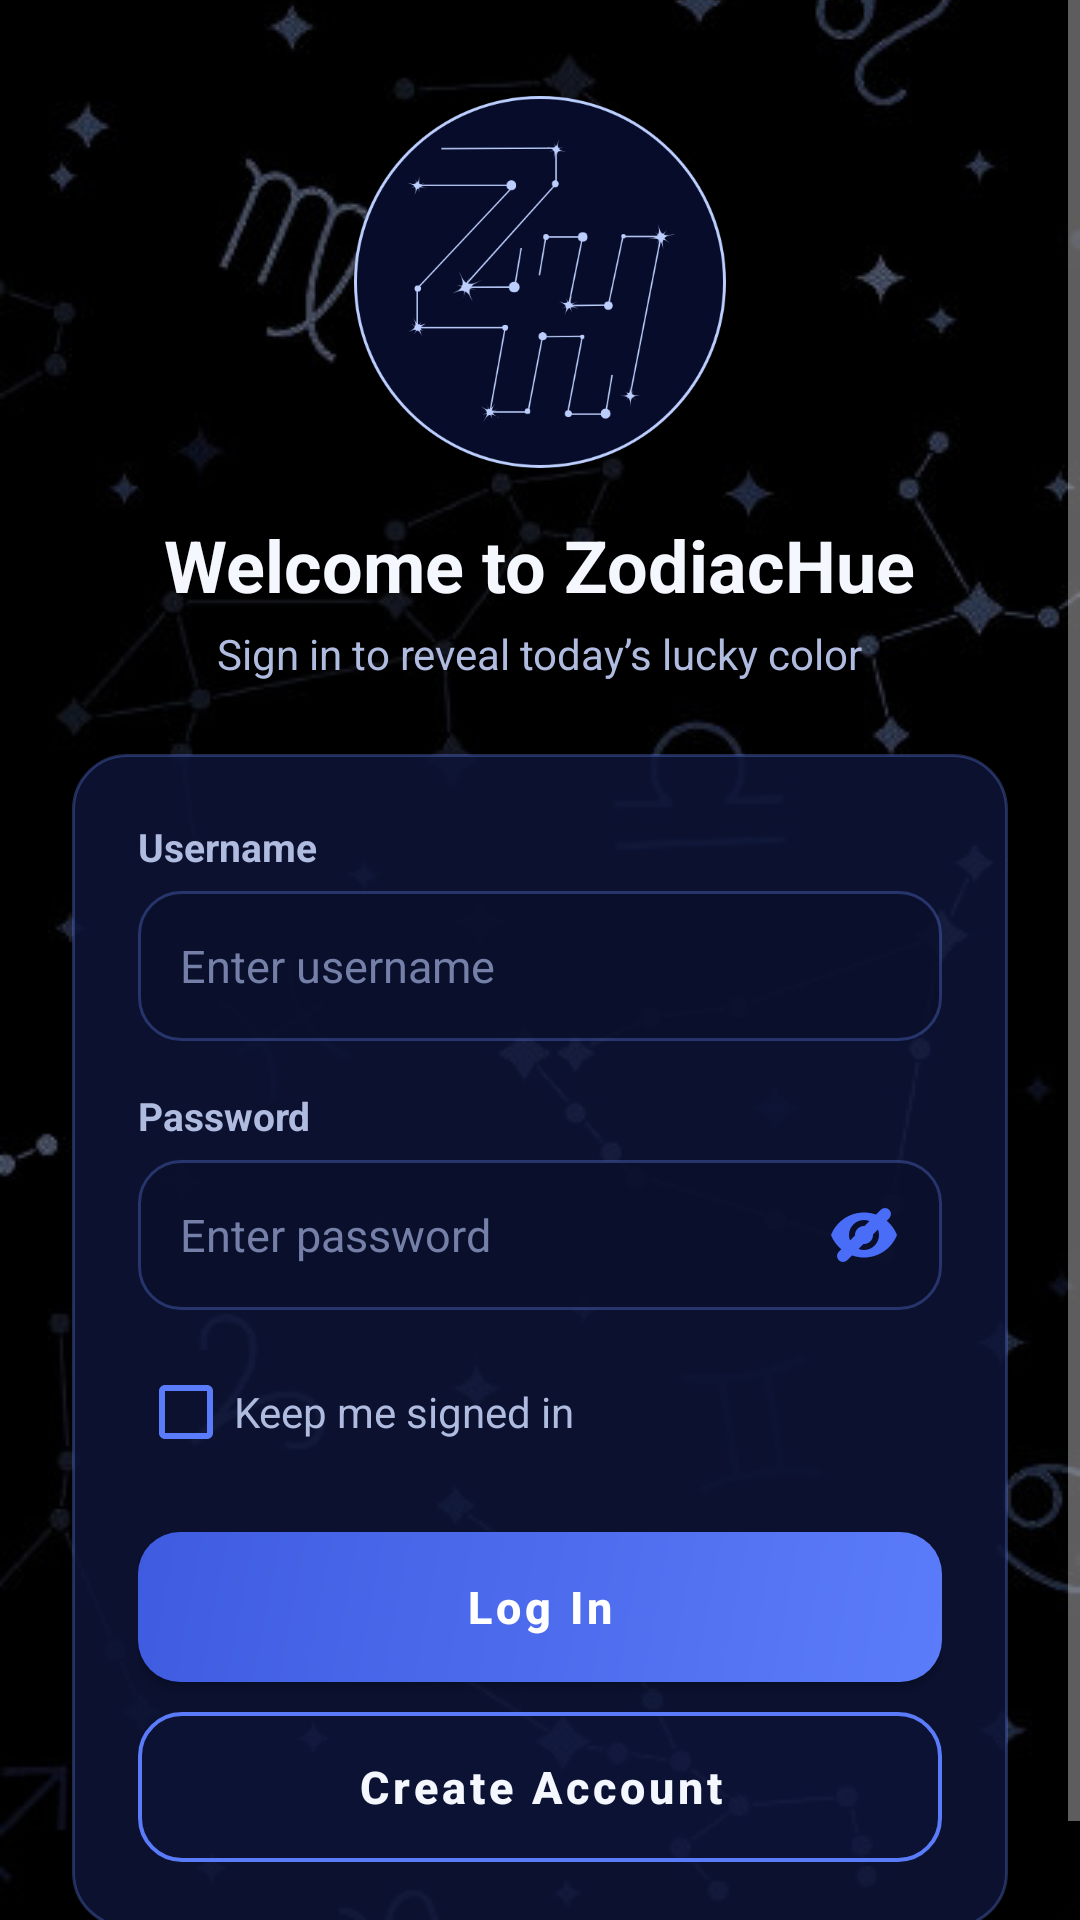

Where to tap for icons on this 1080 x 1920 app screen, as point (x, y):
Toggle password visibility: point (864, 1235)
